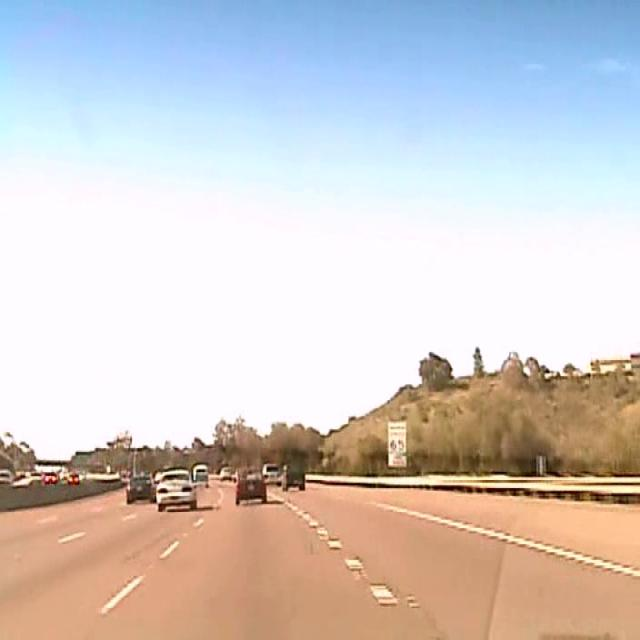speedLimit65: (388, 423, 407, 453)
